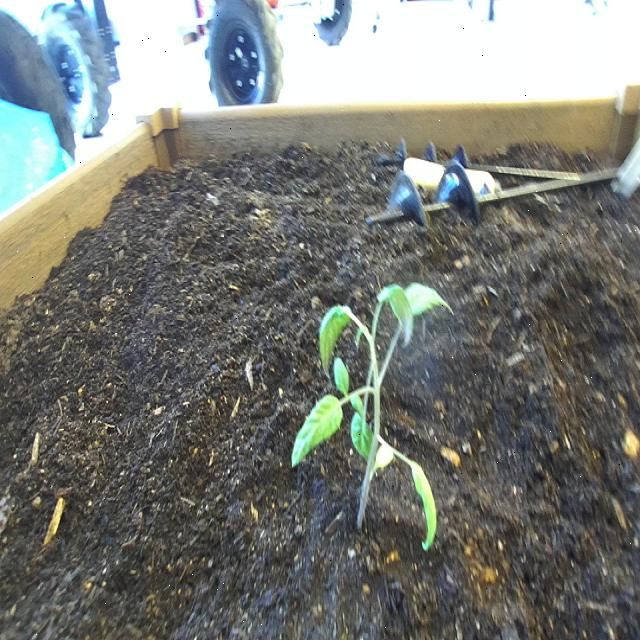Healthy: (288, 276, 458, 558)
